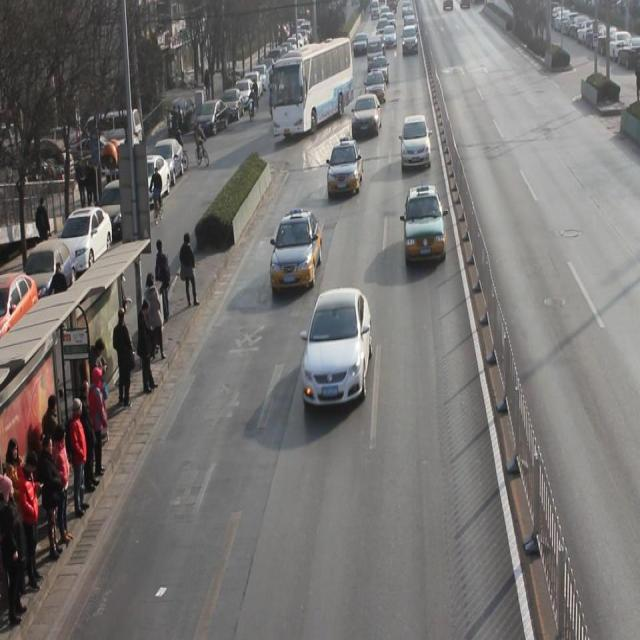car: (302, 285, 372, 407), (270, 209, 322, 291), (403, 185, 447, 262), (327, 141, 364, 196), (400, 113, 432, 171), (352, 93, 383, 138), (364, 71, 387, 103), (371, 55, 390, 86)
van: (270, 38, 354, 141)
